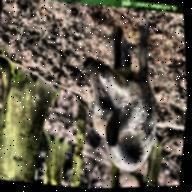boar: (65, 11, 174, 179)
